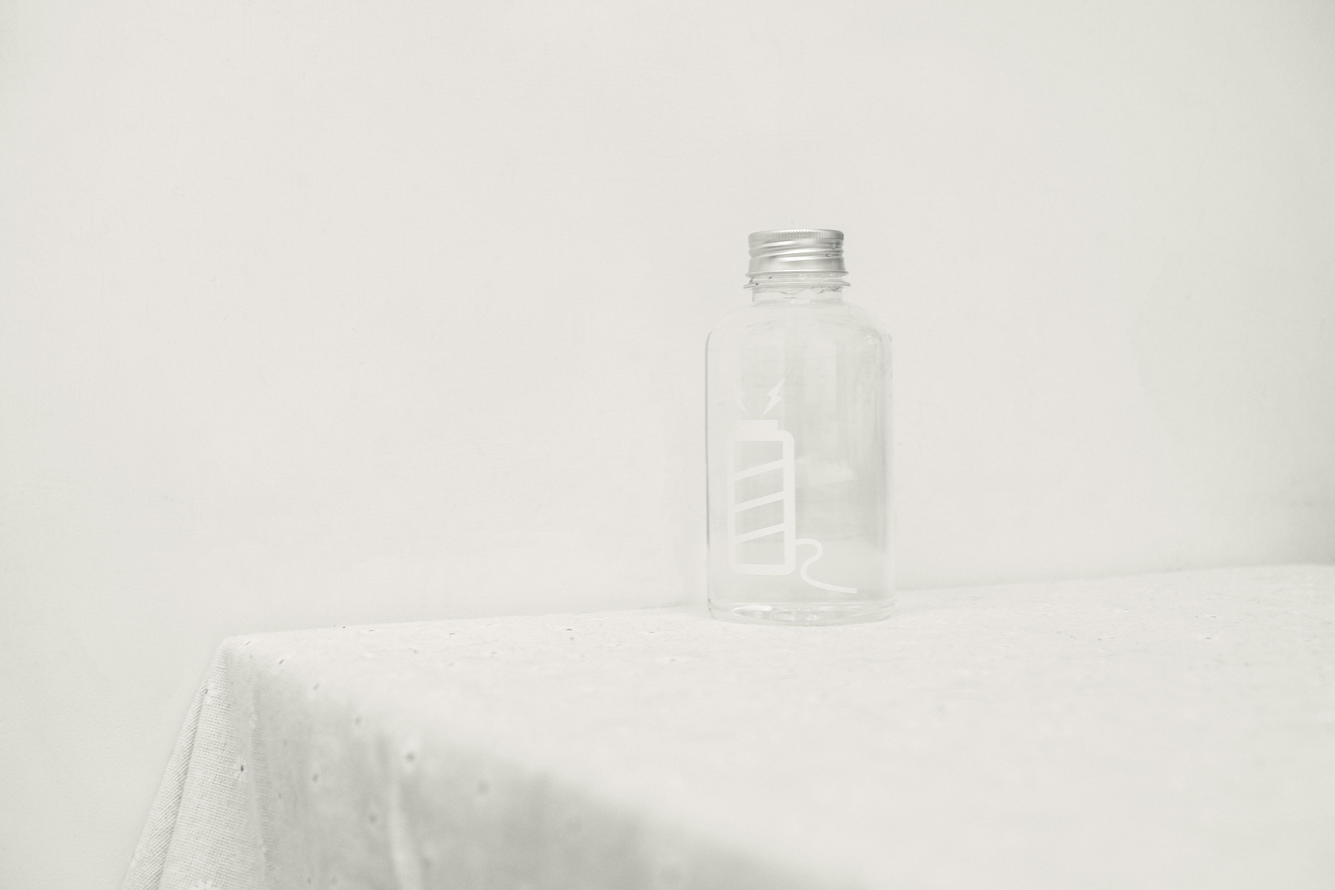Bottle-Detection: (649, 150, 968, 668)
